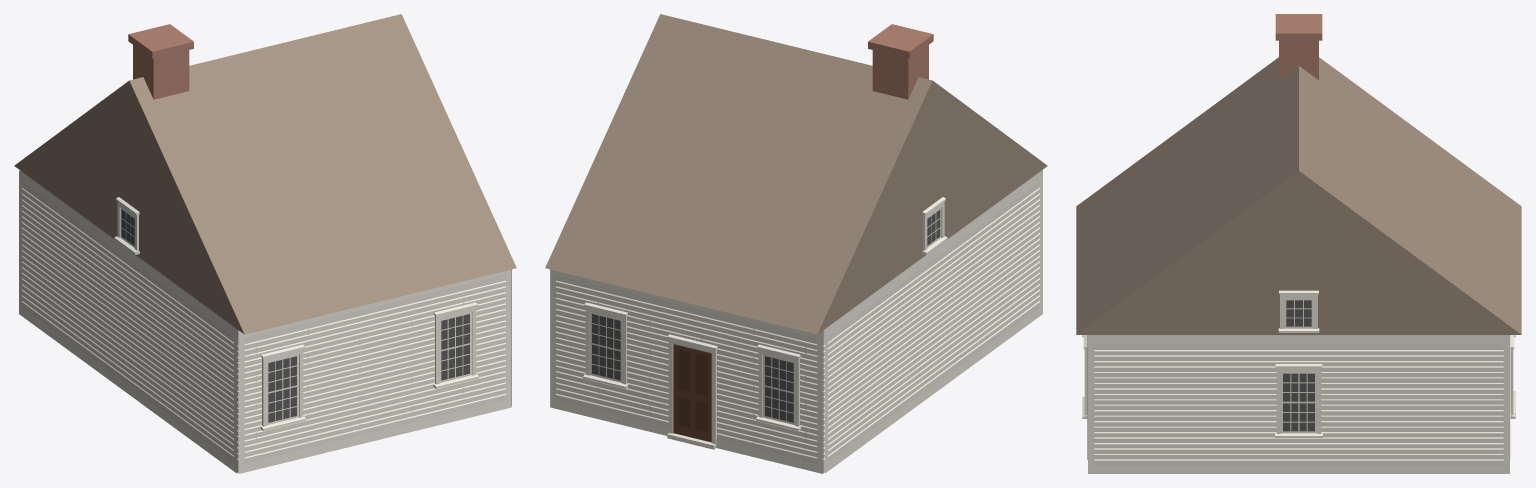
Rendered from recon_1835_north_d6_027__inferred_1835.glb.
The picture shows the model from 3 angles, left to right: view 1: azimuth 30°, elevation 25°; view 2: azimuth 150°, elevation 25°; view 3: azimuth 270°, elevation 25°; orthographic projection. The views are drawn at different scales.
Visible parts, largest first — view 1: recon_1835_north_d6_027__inferred_1835; view 2: recon_1835_north_d6_027__inferred_1835; view 3: recon_1835_north_d6_027__inferred_1835.
Part boxes in pixels (x1,y1,x2,y2): recon_1835_north_d6_027__inferred_1835: (14,14,516,473); recon_1835_north_d6_027__inferred_1835: (545,14,1047,473); recon_1835_north_d6_027__inferred_1835: (1076,14,1521,473).
Bounding box in the file's own units: 6.63 × 7.81 × 9.39.
